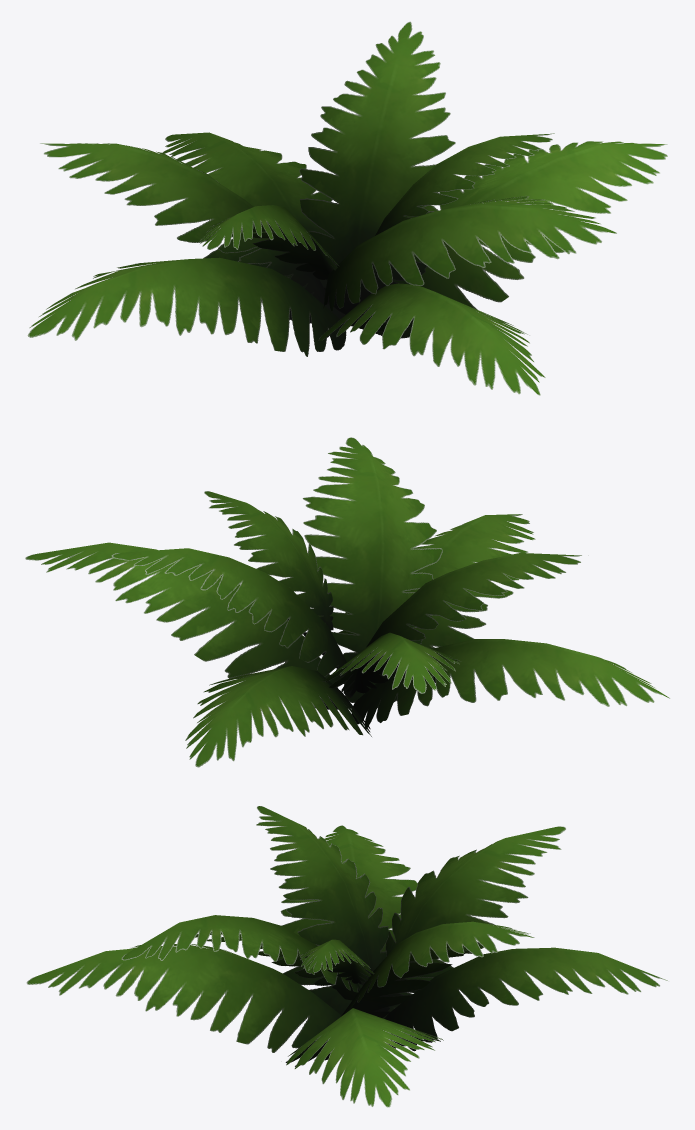
File: fern_1.glb
3 views of the same model, one above another, from view 1: azimuth 30°, elevation 25°; view 2: azimuth 150°, elevation 25°; view 3: azimuth 270°, elevation 25° (orthographic). The views are drawn at different scales.
Bounding box in the file's own units: 2.83 × 0.8402 × 2.65.
1 material, 1 textured.
